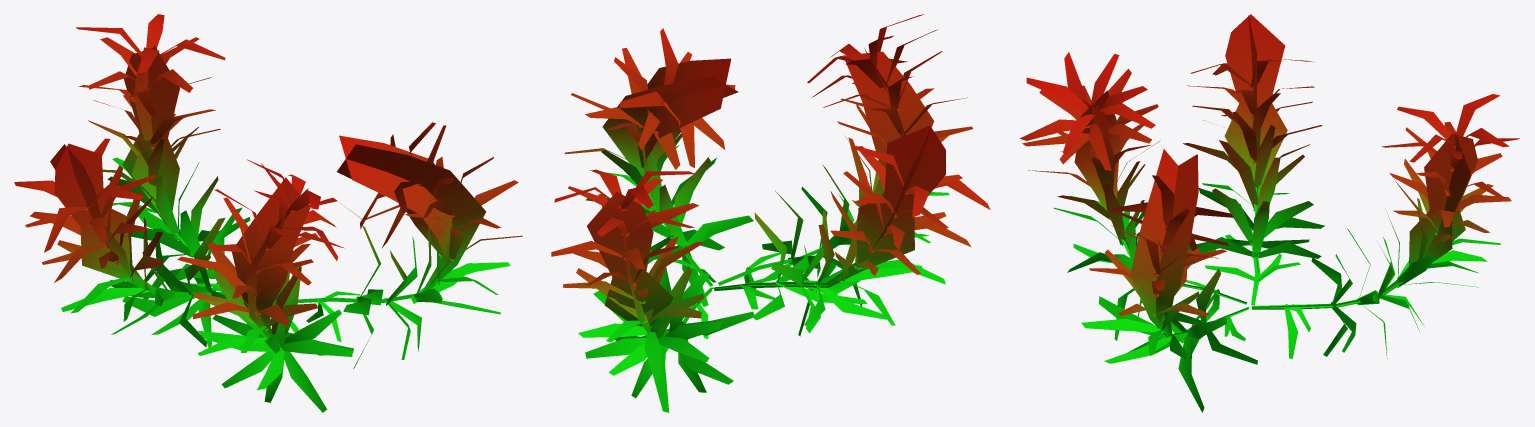
The model's file is Var4_LOD4.fbx.
3 renders of one model, left to right at view 1: azimuth 30°, elevation 25°; view 2: azimuth 150°, elevation 25°; view 3: azimuth 270°, elevation 25°, orthographic. The views are drawn at different scales.
Visible parts, largest first — view 1: _da7h_Var4_LOD4; view 2: _da7h_Var4_LOD4; view 3: _da7h_Var4_LOD4.
Boxes of the visible parts, x1,y1,x2,y2 form: _da7h_Var4_LOD4: [14, 14, 522, 412]; _da7h_Var4_LOD4: [551, 14, 990, 412]; _da7h_Var4_LOD4: [1020, 14, 1519, 412].
Size of the model in its own units: 25.22 by 15.66 by 26.55.
